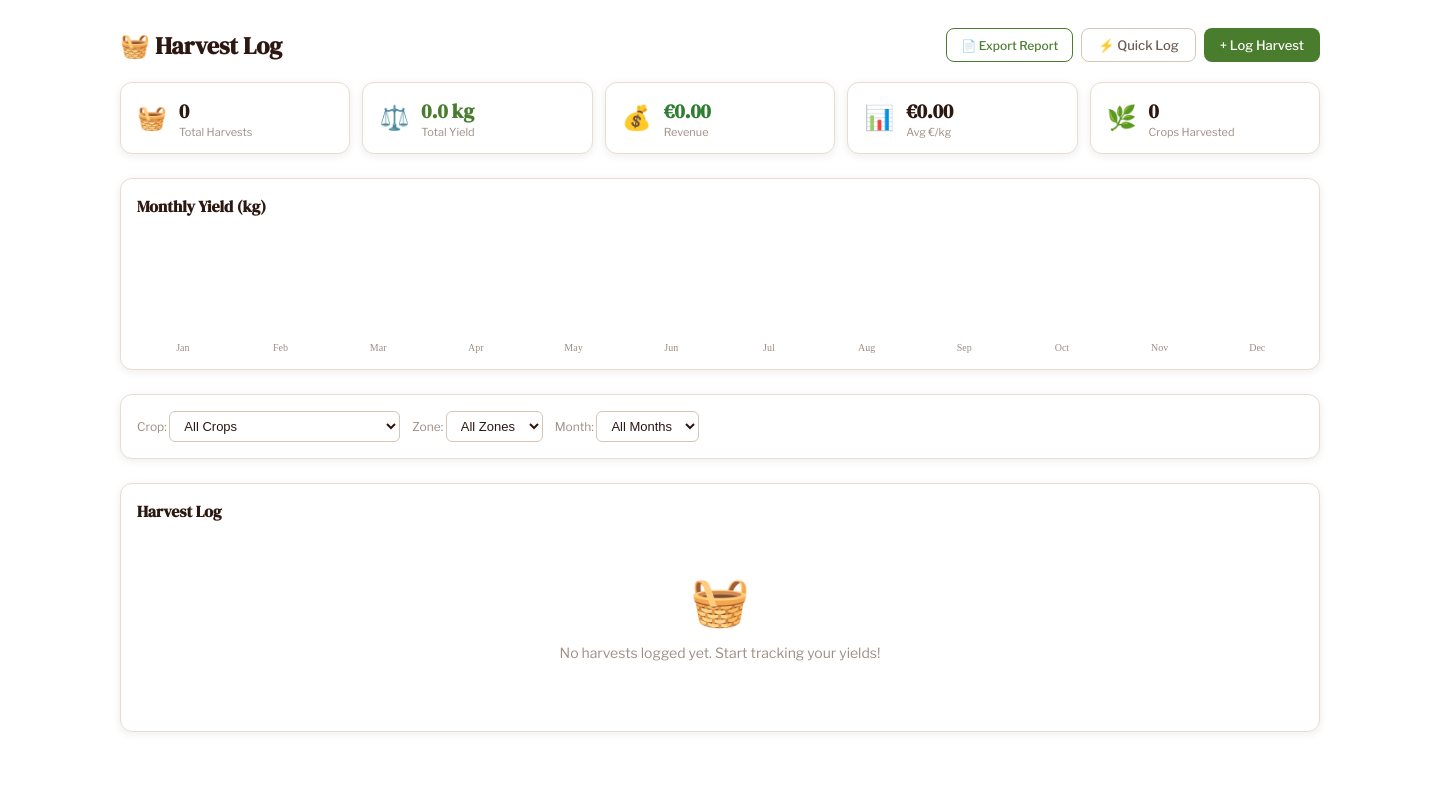
Test case: HarvestTab › opens add harvest modal
The width and height of the screenshot is (1440, 810).
Click the button "+ Log Harvest": (1262, 45) [1204,28,1320,62]
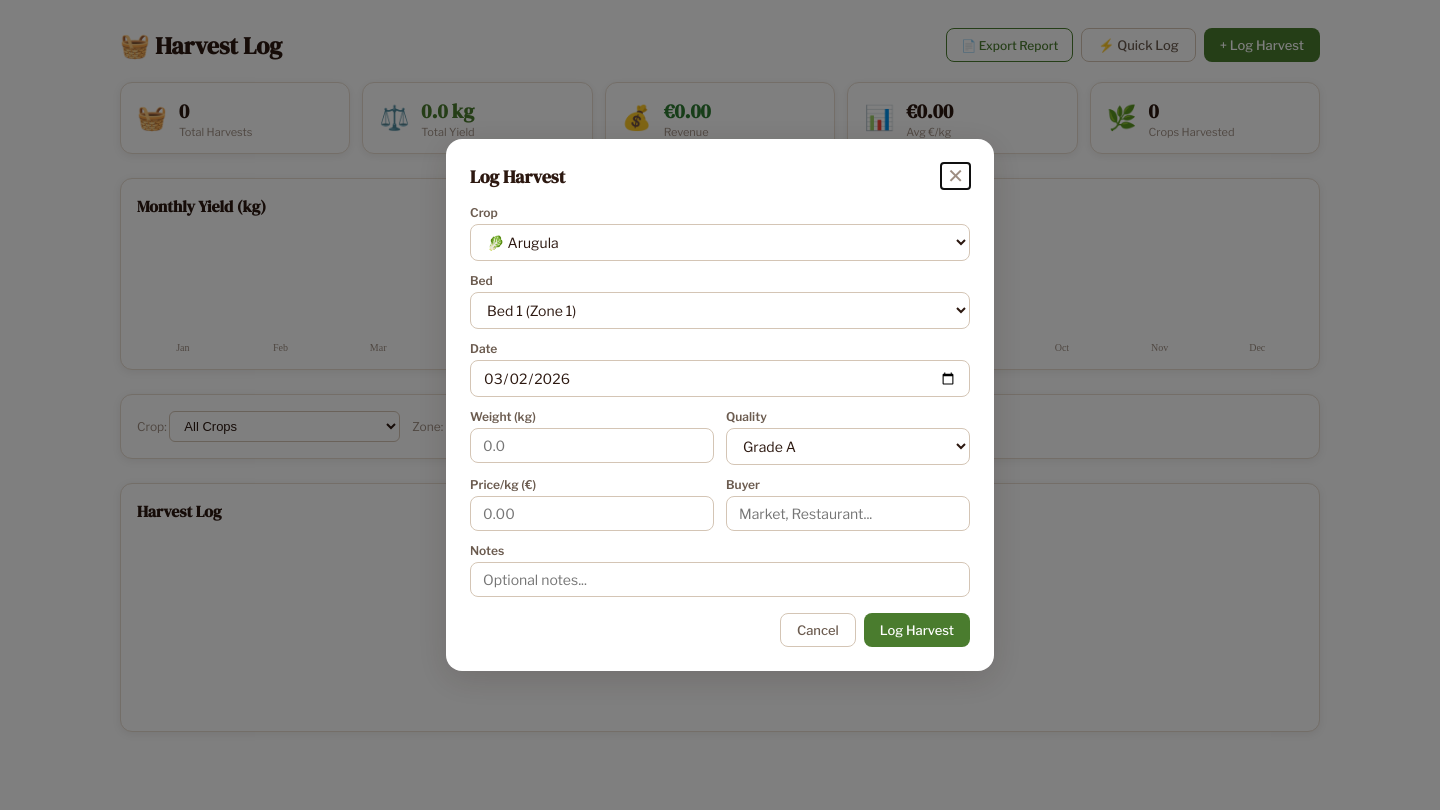
Expected: the dialog is shown, [446,139,994,671]
